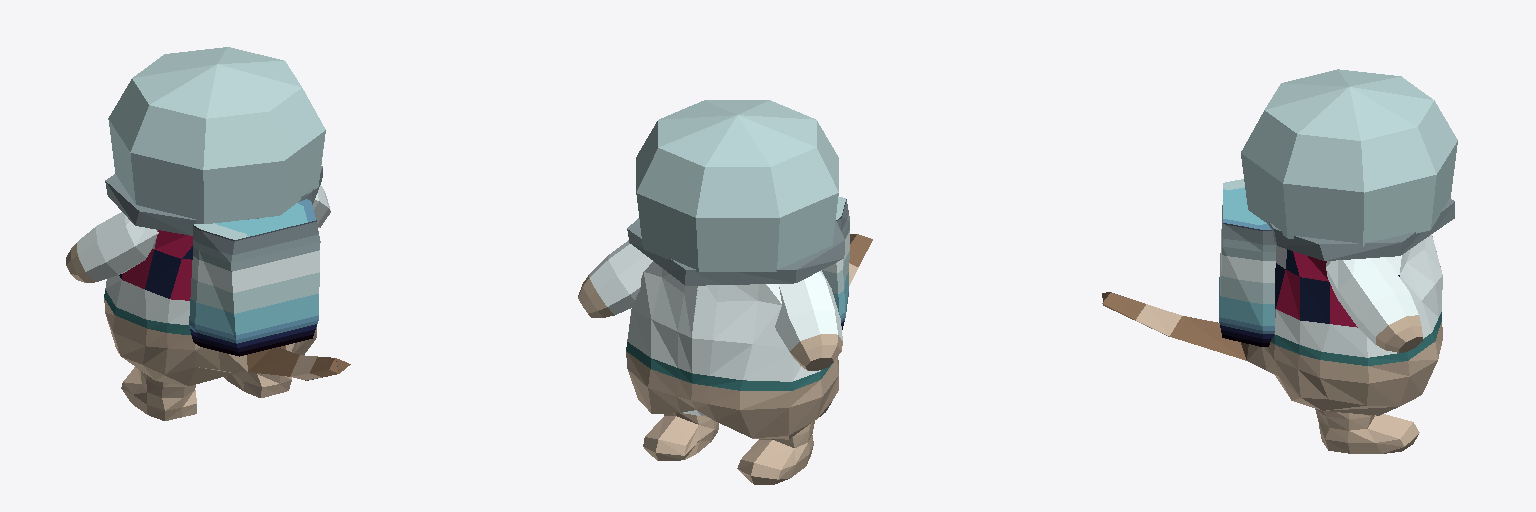
3 views of the same model, side by side, from view 1: azimuth 30°, elevation 25°; view 2: azimuth 150°, elevation 25°; view 3: azimuth 270°, elevation 25° (orthographic).
Visible parts, largest first — view 1: Sphere.004, Cube.002, Cube.001, Cylinder, Cylinder.001; view 2: Sphere.004, Cube.001, Cylinder, Cylinder.001, Cube.002; view 3: Sphere.004, Cube.001, Cube.002, Cylinder, Cylinder.001.
Part boxes in pixels (left/top/right/bottom): Sphere.004: left=108, top=47, right=325, bottom=223; Cube.002: left=189, top=199, right=320, bottom=356; Cube.001: left=104, top=166, right=350, bottom=385; Cylinder: left=66, top=185, right=330, bottom=282; Cylinder.001: left=121, top=367, right=291, bottom=420; Sphere.004: left=636, top=100, right=838, bottom=271; Cube.001: left=626, top=218, right=872, bottom=439; Cylinder: left=578, top=240, right=842, bottom=370; Cylinder.001: left=643, top=413, right=814, bottom=484; Cube.002: left=822, top=196, right=849, bottom=329; Sphere.004: left=1241, top=69, right=1457, bottom=246; Cube.001: left=1102, top=198, right=1454, bottom=415; Cube.002: left=1219, top=179, right=1275, bottom=346; Cylinder: left=1326, top=257, right=1422, bottom=352; Cylinder.001: left=1315, top=409, right=1419, bottom=453.
Size of the model in its own units: 1.32 by 1.66 by 1.6.
5 materials, 1 textured.